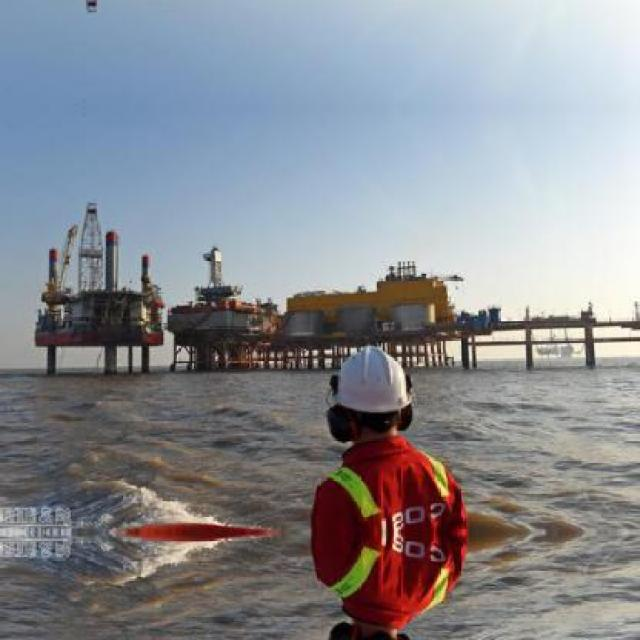Reflective-Jacket: (298, 434, 480, 620)
Safety-Helmet: (312, 338, 428, 434)
